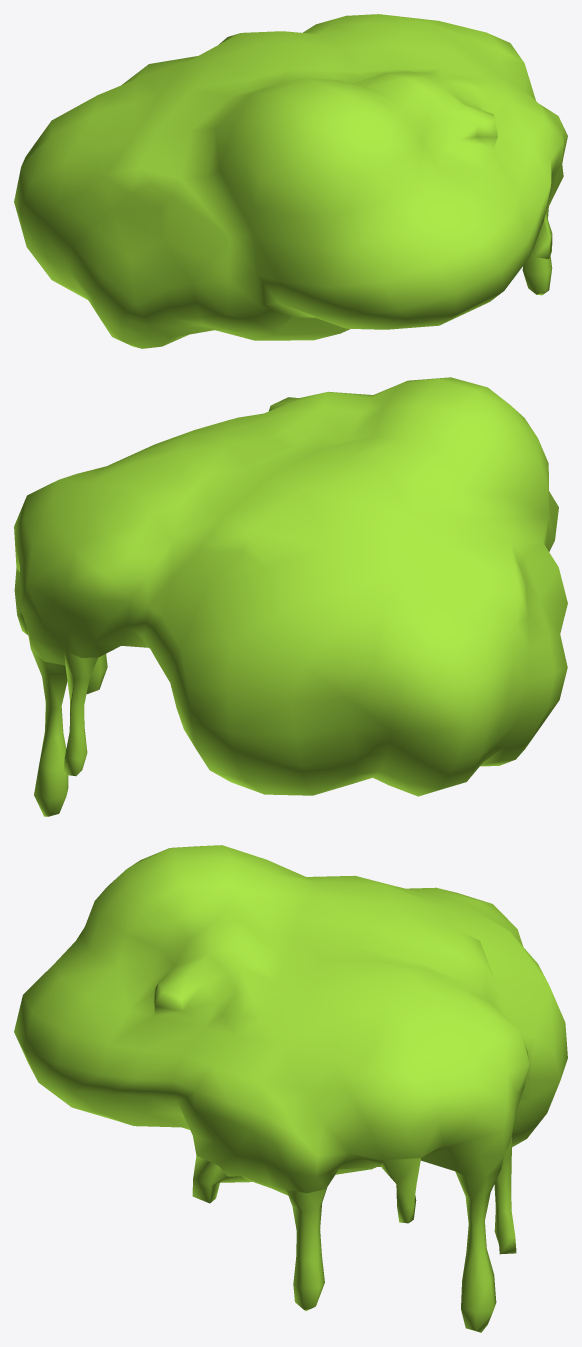
Rendered from env_garbage_slimeclump01.fbx.
3 renders of one model, top to bottom at view 1: azimuth 30°, elevation 25°; view 2: azimuth 150°, elevation 25°; view 3: azimuth 270°, elevation 25°, orthographic. The views are drawn at different scales.
Visible parts, largest first — view 1: slimeclump.001; view 2: slimeclump.001; view 3: slimeclump.001.
Boxes of the visible parts, x1,y1,x2,y2 form: slimeclump.001: [14, 14, 567, 348]; slimeclump.001: [14, 377, 567, 816]; slimeclump.001: [14, 845, 567, 1332].
Bounding box in the file's own units: 29.56 × 21.29 × 29.58.
